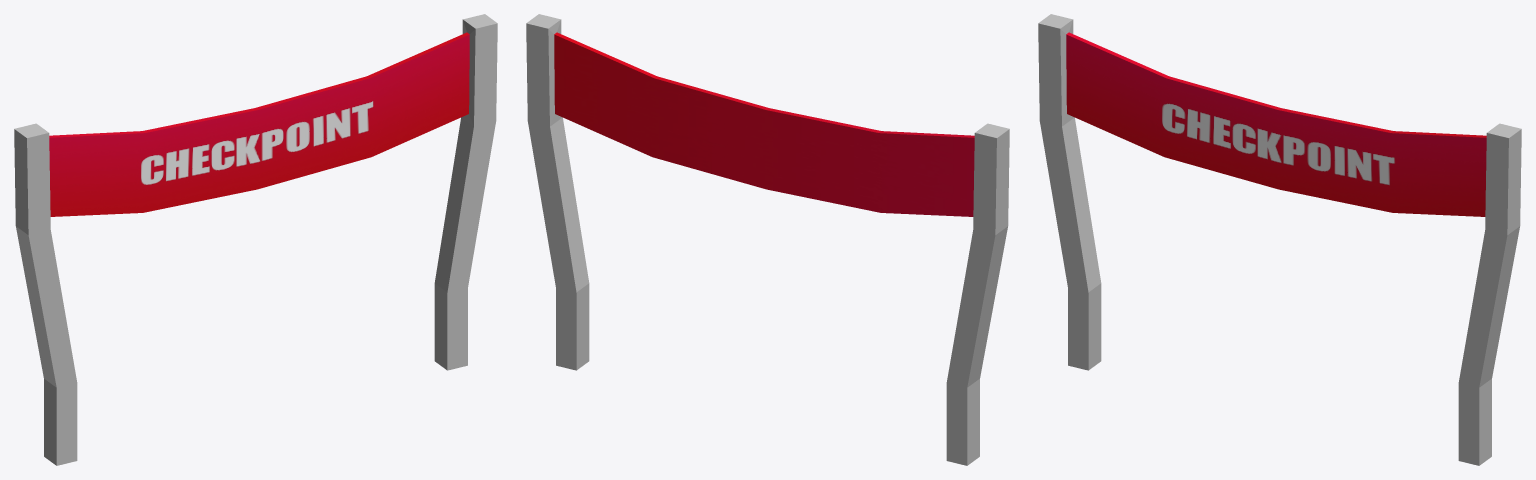
The model's file is Checkpoint.glb.
3 views of the same model, side by side, from view 1: azimuth 30°, elevation 25°; view 2: azimuth 150°, elevation 25°; view 3: azimuth 330°, elevation 25° (orthographic).
Visible parts, largest first — view 1: Checkpoint.001; view 2: Checkpoint.001; view 3: Checkpoint.001.
Boxes of the visible parts, box(x1,y1,x2,y2) form: Checkpoint.001: box(14, 14, 497, 465); Checkpoint.001: box(526, 14, 1009, 465); Checkpoint.001: box(1038, 14, 1521, 465).
Size of the model in its own units: 12.61 by 8.58 by 0.5946.
Materials: 2 (1 with a texture image).
